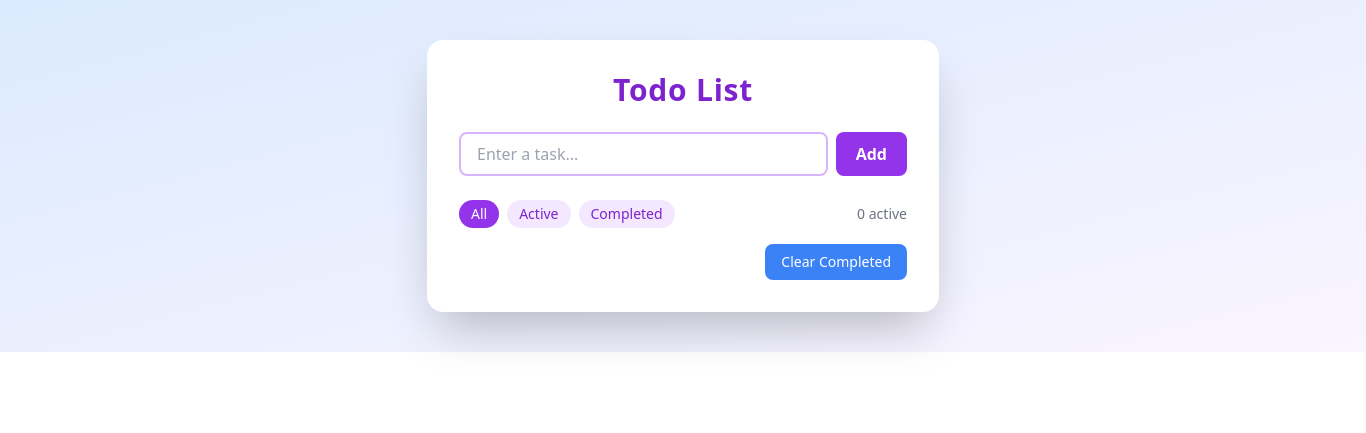
Test case: TodoList Component › deletes a todo
The width and height of the screenshot is (1366, 433).
Step 1. Type "Temporary Task" into the field with placeholder "Enter a task..." → (643, 154), box 459,132 -> 828,176
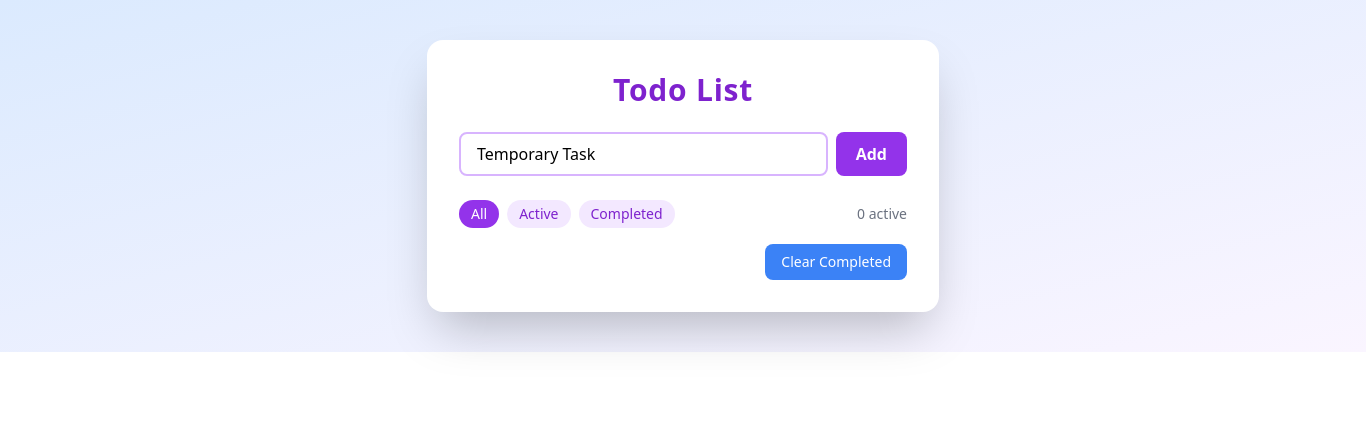
Step 2. Click the button "Add" → (871, 154), box 836,132 -> 907,176
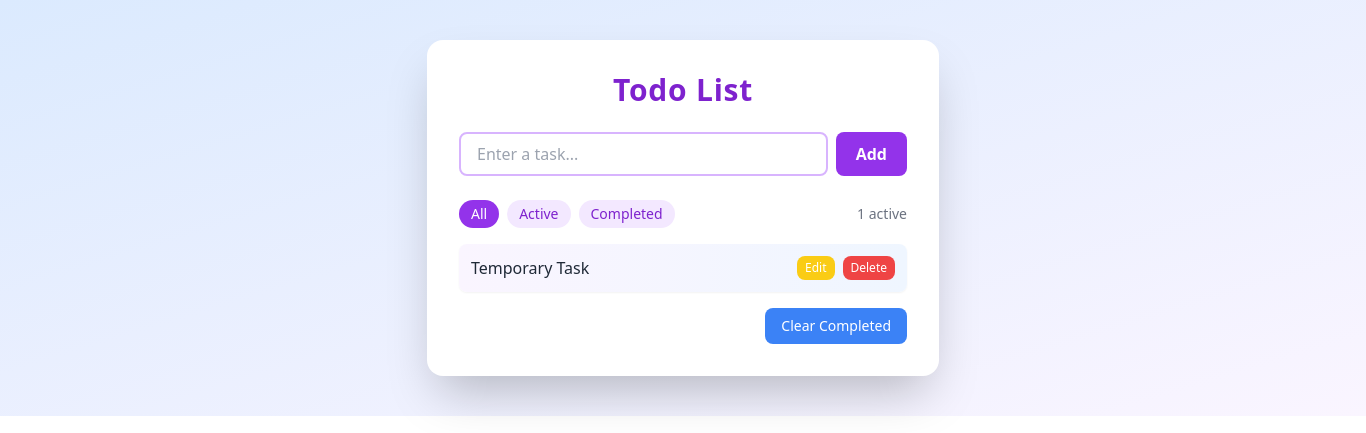
Step 3. Click the button "Delete" → (869, 268), box 842,256 -> 895,280
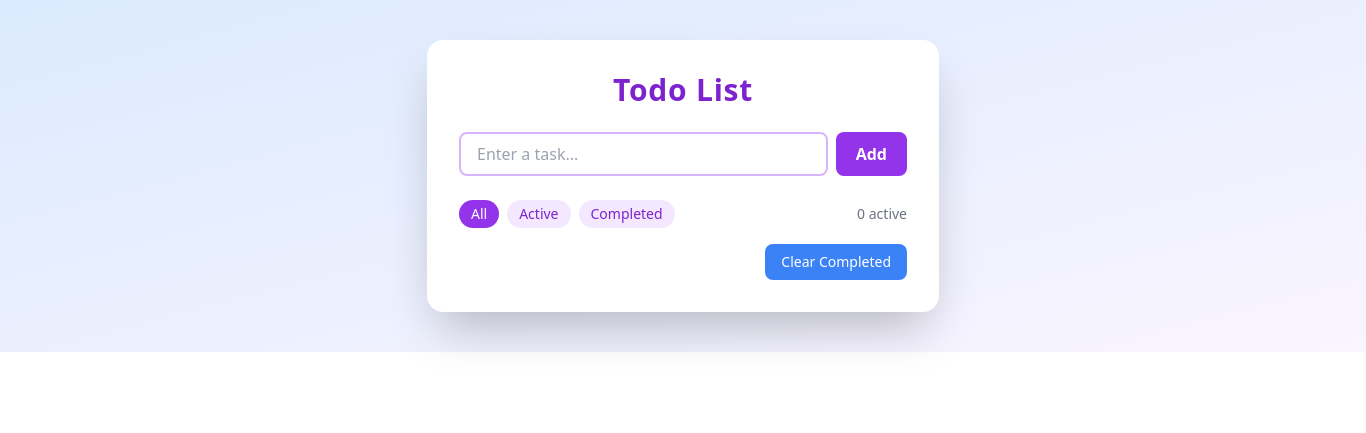
Result: the text "Temporary Task" is gone
